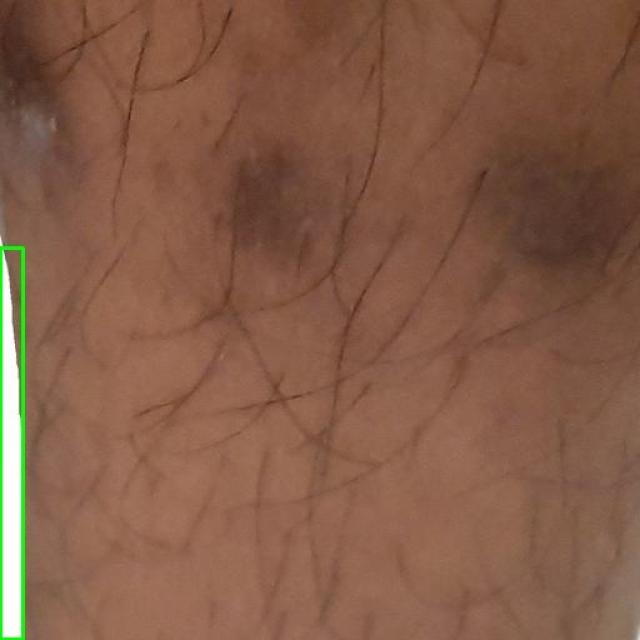Contact Dermatitis: (0, 248, 22, 639)
